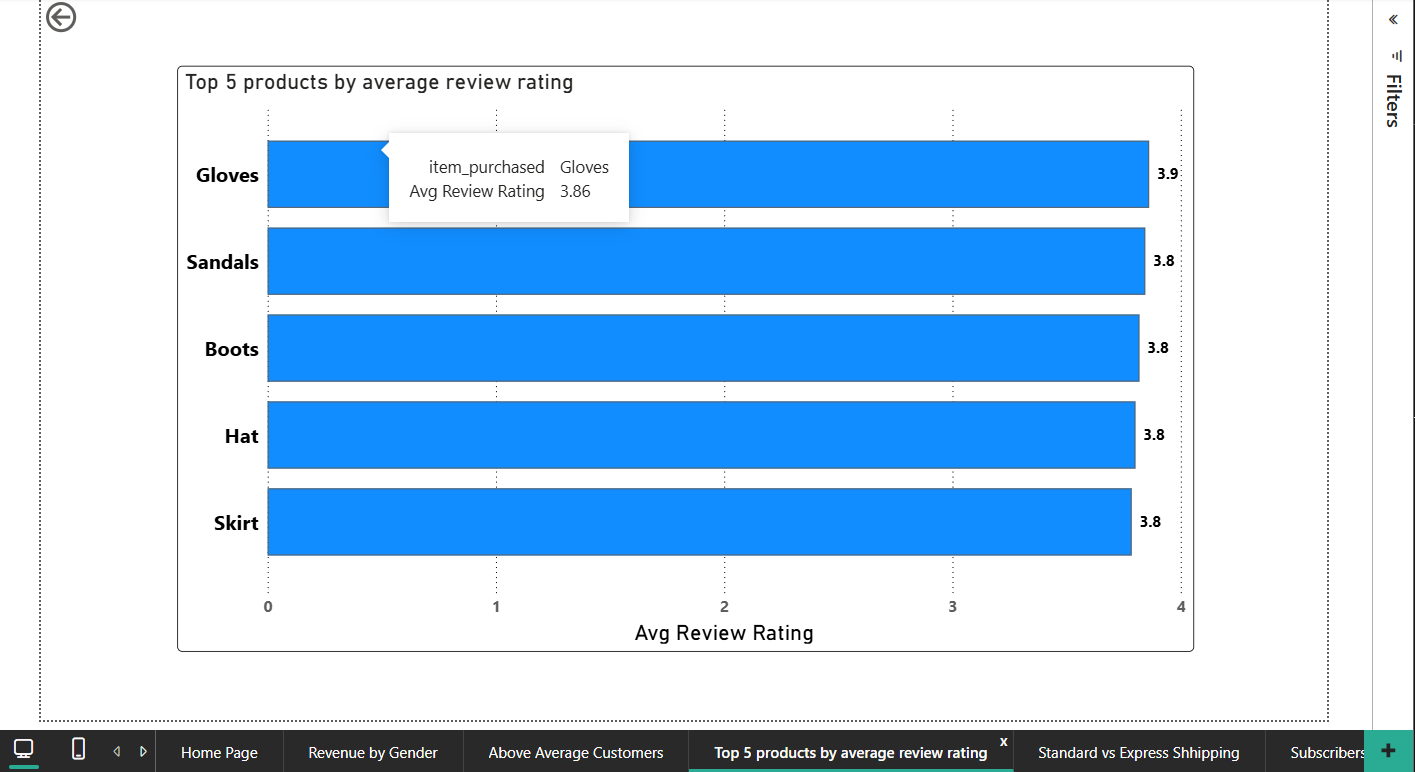

Layout of this report page (visuals, bound fields, positions):
{"tool":"powerbi","page":{"name":"Top 5 products by average review rating","canvas":[1280,720],"ordinal":3},"visuals":[{"type":"clusteredBarChart","title":"Top 5 products by average review rating","fields":{"Y":["customers.Avg Review Rating"],"Category":["customers.item_purchased"]},"box":[135,68.3,1011.7,583.3],"z":0},{"type":"actionButton","box":[0,0,100,40],"z":1000}]}

Visuals, with their boxes on the page's 1280x720 design canvas (x1, y1, x2, y2). These are canvas units, not pixel positions in the 1415x772 screenshot, which may show the page scaled, cropped or inside an application window:
"Top 5 products by average review rating" clusteredBarChart: crop(135, 68, 1147, 652)
actionButton: crop(0, 0, 100, 40)
